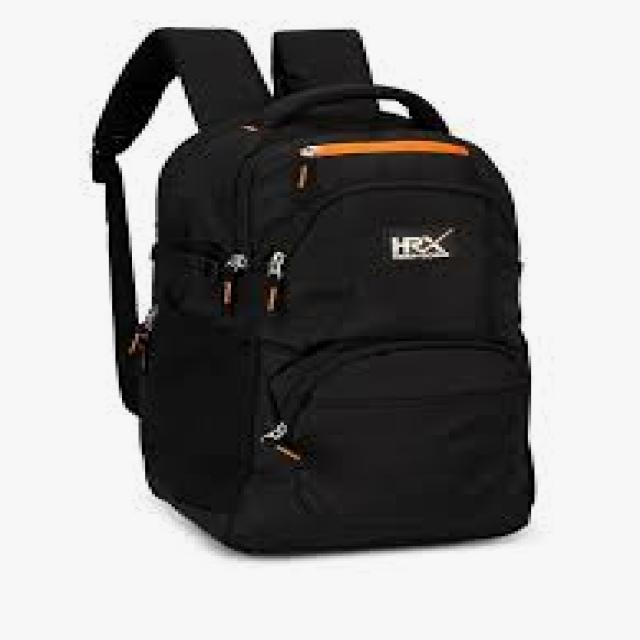backpack: (90, 26, 536, 555)
